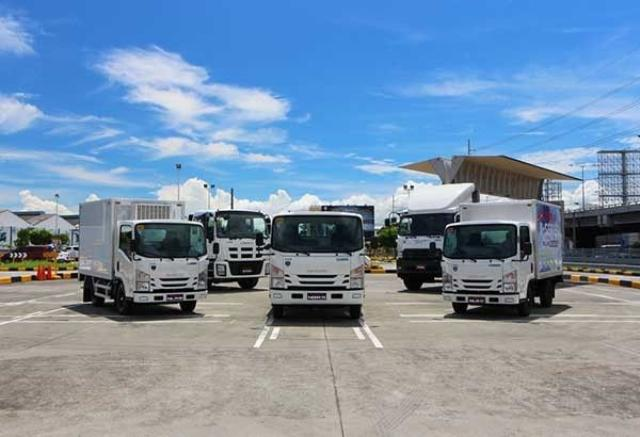truck: (77, 197, 207, 314), (438, 199, 567, 312), (265, 209, 369, 319), (391, 183, 482, 290), (187, 208, 273, 290)
